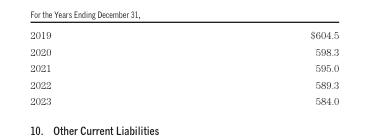table: (29, 29, 338, 106)
table column: (179, 29, 338, 106), (29, 29, 179, 106)
table row: (29, 42, 338, 59), (29, 75, 338, 92), (29, 59, 338, 75), (29, 92, 338, 106), (29, 29, 338, 42)
